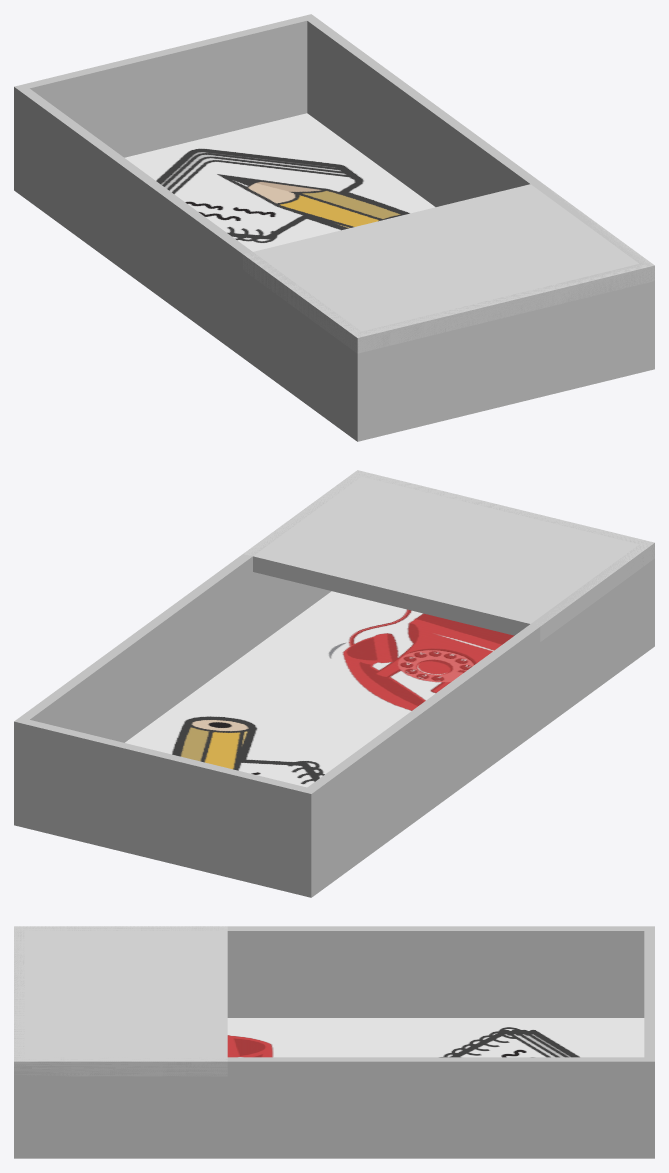
File: bin_gman_lid_phone.dae
3 views of the same model, one above another, from view 1: azimuth 30°, elevation 25°; view 2: azimuth 150°, elevation 25°; view 3: azimuth 270°, elevation 25° (orthographic). The views are drawn at different scales.
Parts seen in each view (by area): view 1: Cube, Cube.001; view 2: Cube, Cube.001; view 3: Cube, Cube.001.
Boxes of the visible parts, x1,y1,x2,y2 form: Cube: [14, 14, 654, 441]; Cube.001: [243, 182, 654, 353]; Cube: [14, 470, 654, 897]; Cube.001: [243, 470, 654, 641]; Cube: [14, 926, 654, 1158]; Cube.001: [14, 926, 227, 1076].
Bounding box in the file's own units: 0.3 × 0.6 × 0.1.
2 materials, 1 textured.
